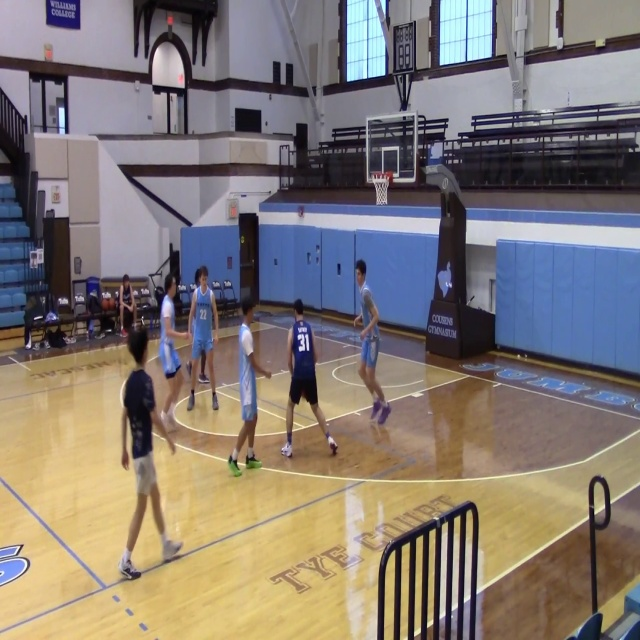Basketball: (101, 298, 110, 309), (108, 298, 116, 309)
